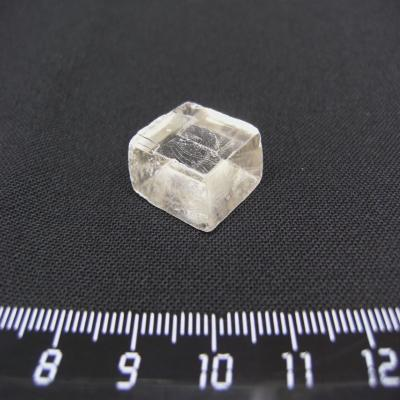mineralogy: (127, 102, 264, 235)
